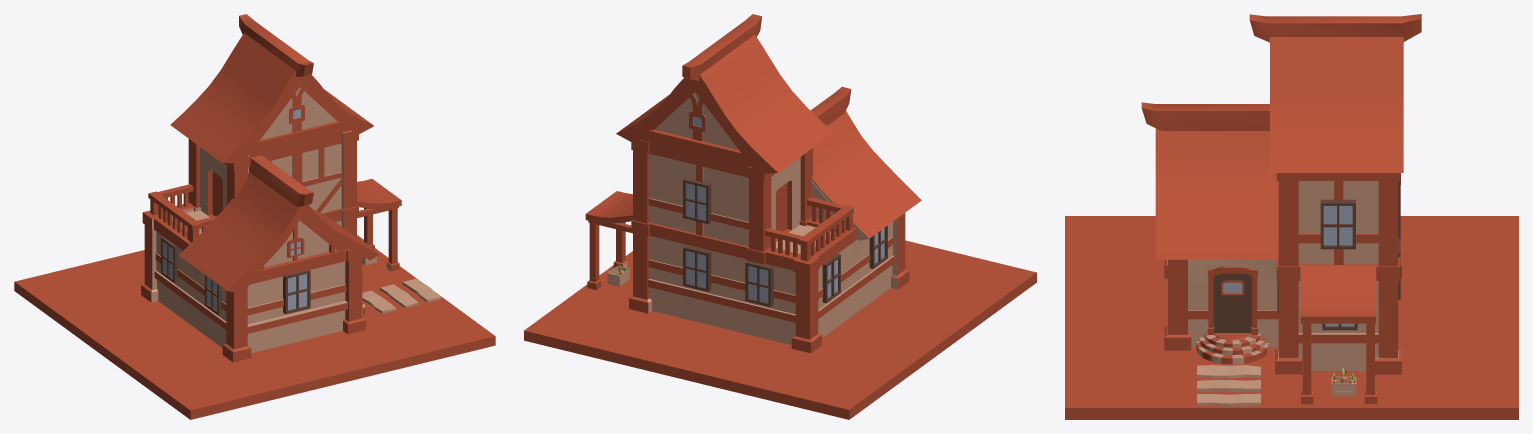
The model's file is House_B.fbx.
The picture shows the model from 3 angles, left to right: view 1: azimuth 30°, elevation 25°; view 2: azimuth 150°, elevation 25°; view 3: azimuth 270°, elevation 25°; orthographic projection. The views are drawn at different scales.
Parts seen in each view (by area): view 1: pCube7, Cube, Cube.001, Cube.009; view 2: pCube7, Cube, Cube.001; view 3: pCube7, Cube, Cube.001, Cube.009, pCube7.003.
Part boxes in pixels (left/top/right/bottom): pCube7: left=141, top=14, right=401, bottom=362; Cube: left=14, top=235, right=495, bottom=419; Cube.001: left=161, top=237, right=310, bottom=315; Cube.009: left=362, top=278, right=441, bottom=313; pCube7: left=585, top=14, right=921, bottom=353; Cube: left=524, top=240, right=1036, bottom=419; Cube.001: left=683, top=177, right=887, bottom=306; pCube7: left=1141, top=14, right=1421, bottom=404; Cube: left=1065, top=216, right=1518, bottom=419; Cube.001: left=1277, top=173, right=1400, bottom=330; Cube.009: left=1197, top=365, right=1260, bottom=406; pCube7.003: left=1213, top=273, right=1251, bottom=332.
Size of the model in its own units: 2633 by 2123 by 2633.
